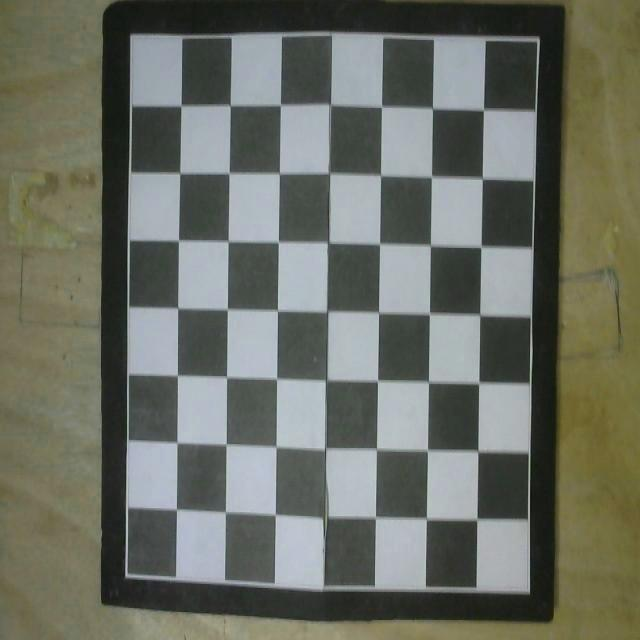chess-table-corners: (533, 33, 541, 46), (128, 29, 135, 41), (122, 571, 130, 581), (526, 588, 532, 597)
